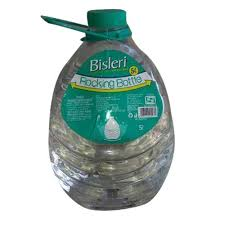Bisleri: (88, 60, 133, 75)
plastic: (68, 71, 156, 198)
